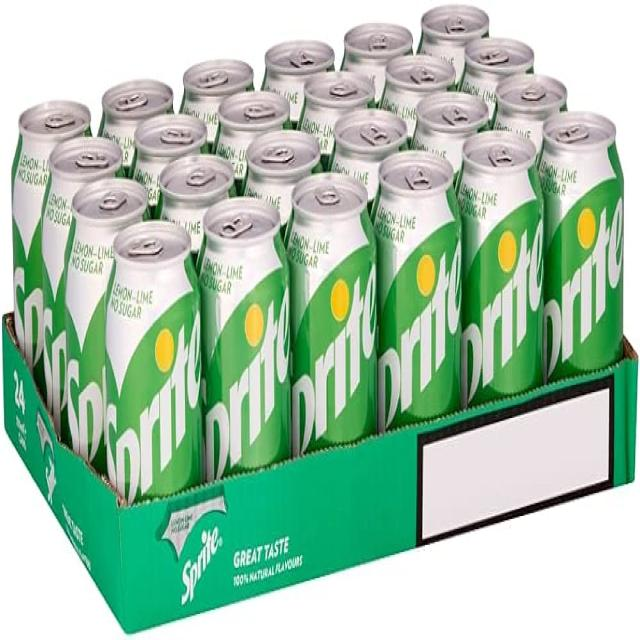sprite: (199, 211, 297, 576), (101, 230, 210, 540), (36, 145, 126, 438), (66, 188, 152, 474), (464, 151, 550, 405), (544, 119, 626, 383), (9, 84, 85, 364), (293, 189, 375, 445), (379, 160, 447, 404), (452, 418, 458, 438)
